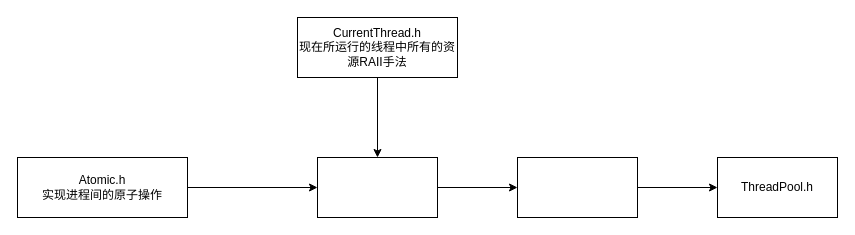
This 855x235 diagram has some shape labels left out. The centre of each missing label's shape, as x and y in pixels:
Thread.cc: (x=577, y=187)
Thread.h 实现服务器线程: (x=377, y=187)
